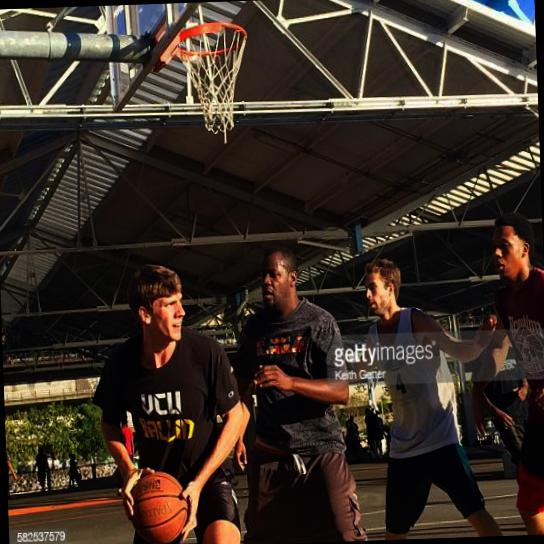basketball-hoop: (178, 19, 253, 149)
